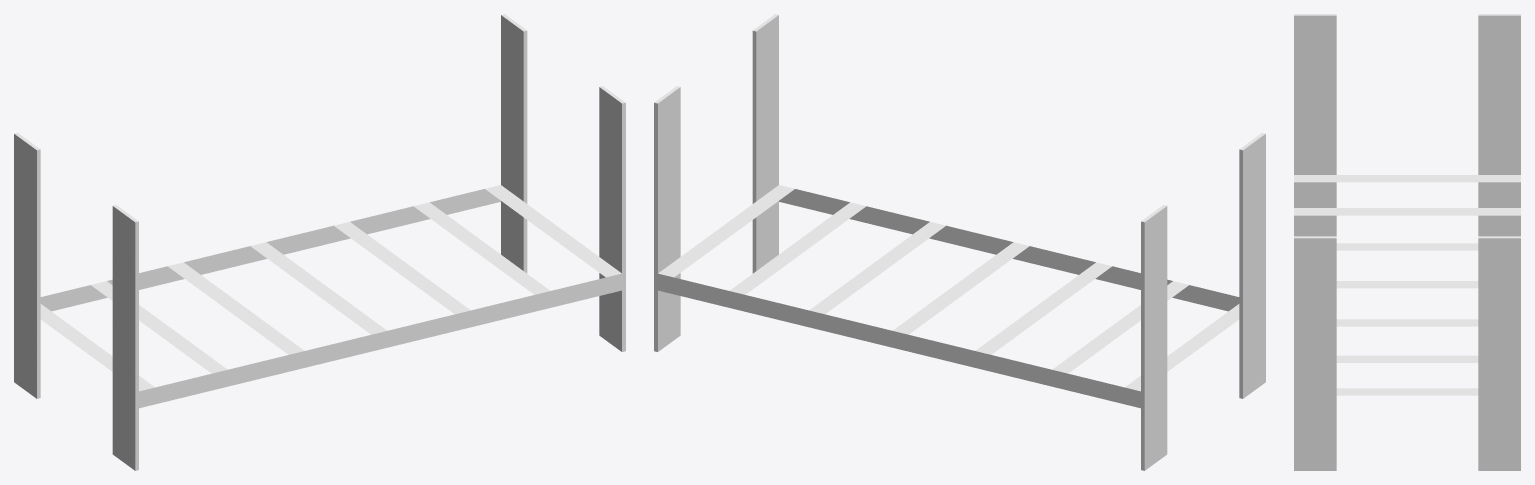
The model's file is DockRackA.fbx.
3 renders of one model, left to right at view 1: azimuth 30°, elevation 25°; view 2: azimuth 150°, elevation 25°; view 3: azimuth 270°, elevation 25°, orthographic. The views are drawn at different scales.
Parts seen in each view (by area): view 1: DockRackA; view 2: DockRackA; view 3: DockRackA.
Boxes of the visible parts, x1,y1,x2,y2 form: DockRackA: (14, 14, 625, 470); DockRackA: (654, 14, 1265, 470); DockRackA: (1294, 14, 1520, 470).
Size of the model in its own units: 350 by 170 by 150.
1 material, 1 textured.
